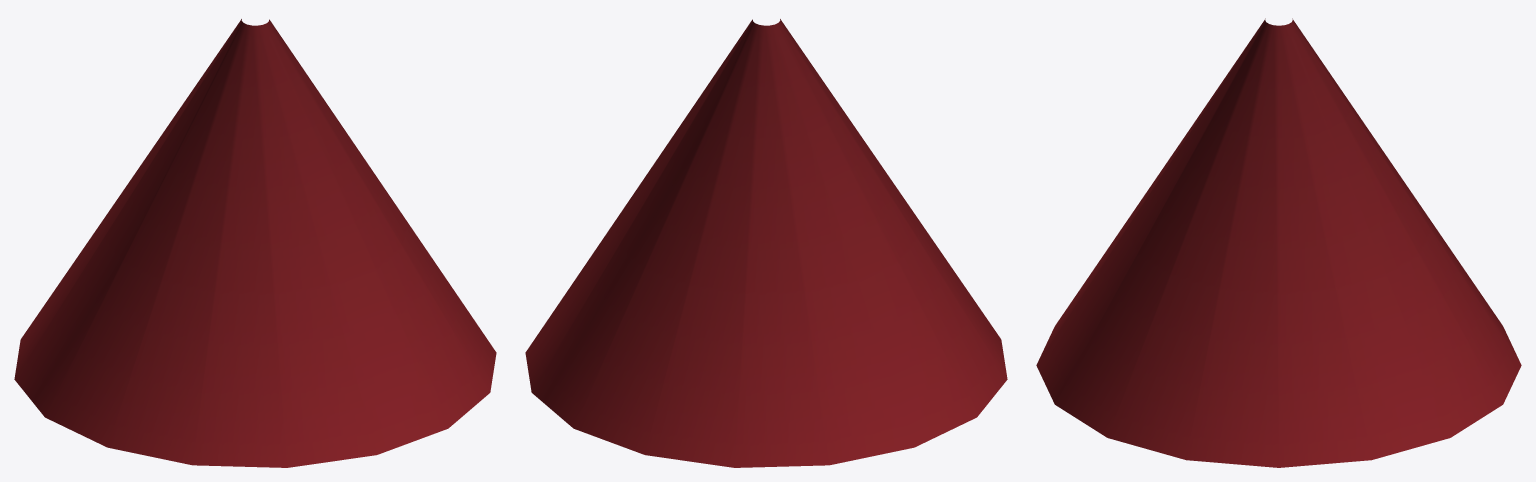
Rendered from KIT_Roof_Hip_4x4.glb.
The picture shows the model from 3 angles, left to right: view 1: azimuth 30°, elevation 25°; view 2: azimuth 150°, elevation 25°; view 3: azimuth 270°, elevation 25°; orthographic projection.
Visible parts, largest first — view 1: KIT_Roof_Hip_4x4; view 2: KIT_Roof_Hip_4x4; view 3: KIT_Roof_Hip_4x4.
Boxes of the visible parts, x1,y1,x2,y2 form: KIT_Roof_Hip_4x4: [14, 19, 496, 467]; KIT_Roof_Hip_4x4: [525, 19, 1007, 467]; KIT_Roof_Hip_4x4: [1036, 18, 1521, 467].
Size of the model in its own units: 2.8 by 2.2 by 2.8.
Materials: 1 (1 with a texture image).
